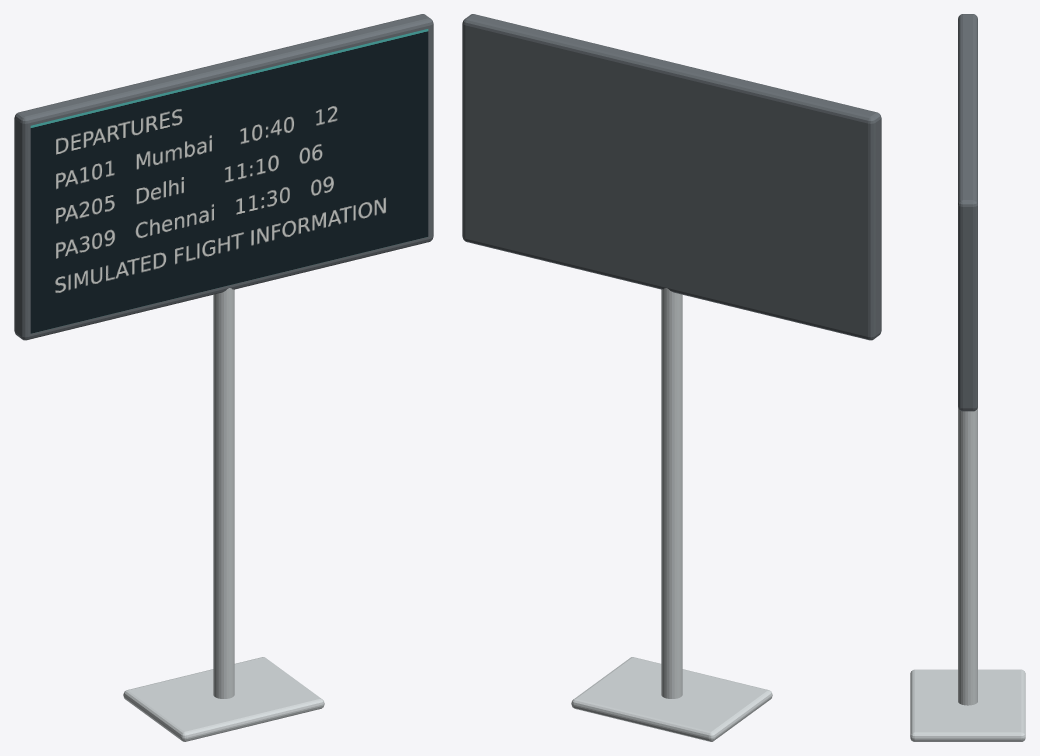
The model's file is departures-display.glb.
The picture shows the model from 3 angles, left to right: view 1: azimuth 30°, elevation 25°; view 2: azimuth 150°, elevation 25°; view 3: azimuth 270°, elevation 25°; orthographic projection. The views are drawn at different scales.
Visible parts, largest first — view 1: EditableScreen, DisplayHousing, Base, DisplayPost; view 2: DisplayHousing, Base, DisplayPost; view 3: DisplayHousing, Base, DisplayPost.
Part boxes in pixels (left/top/right/bottom): EditableScreen: left=30, top=29, right=428, bottom=333; DisplayHousing: left=14, top=14, right=433, bottom=340; Base: left=123, top=657, right=324, bottom=741; DisplayPost: left=213, top=288, right=234, bottom=698; DisplayHousing: left=462, top=14, right=881, bottom=340; Base: left=571, top=657, right=772, bottom=741; DisplayPost: left=661, top=288, right=682, bottom=698; DisplayHousing: left=958, top=14, right=977, bottom=411; Base: left=910, top=669, right=1025, bottom=741; DisplayPost: left=958, top=407, right=977, bottom=705.
Bounding box in the file's own units: 1.55 × 2.3 × 0.4.
3 materials, 1 textured.
